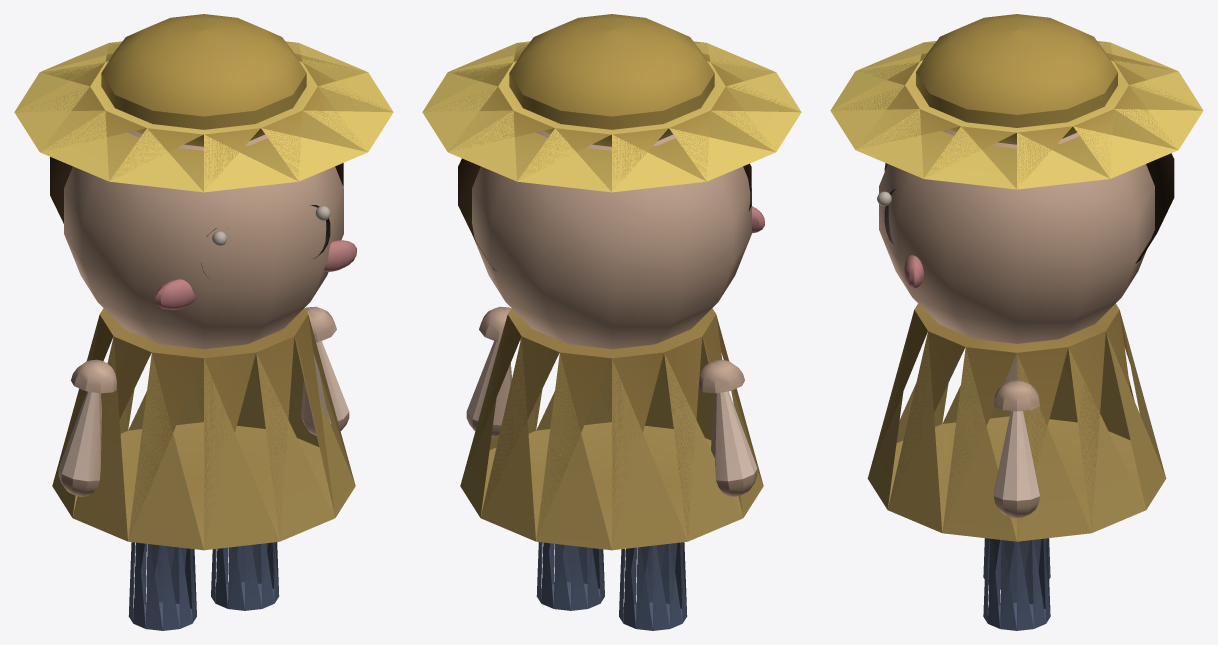
File: pfe379d0e.glb
3 views of the same model, side by side, from view 1: azimuth 30°, elevation 25°; view 2: azimuth 150°, elevation 25°; view 3: azimuth 270°, elevation 25° (orthographic).
Parts seen in each view (by area): view 1: pet_pfe379d0e; view 2: pet_pfe379d0e; view 3: pet_pfe379d0e.
Part boxes in pixels (box(x1,y1,x2,y2)): pet_pfe379d0e: box(14, 14, 393, 630); pet_pfe379d0e: box(422, 14, 801, 630); pet_pfe379d0e: box(830, 14, 1203, 630).
Size of the model in its own units: 0.4 by 0.6705 by 0.4.
